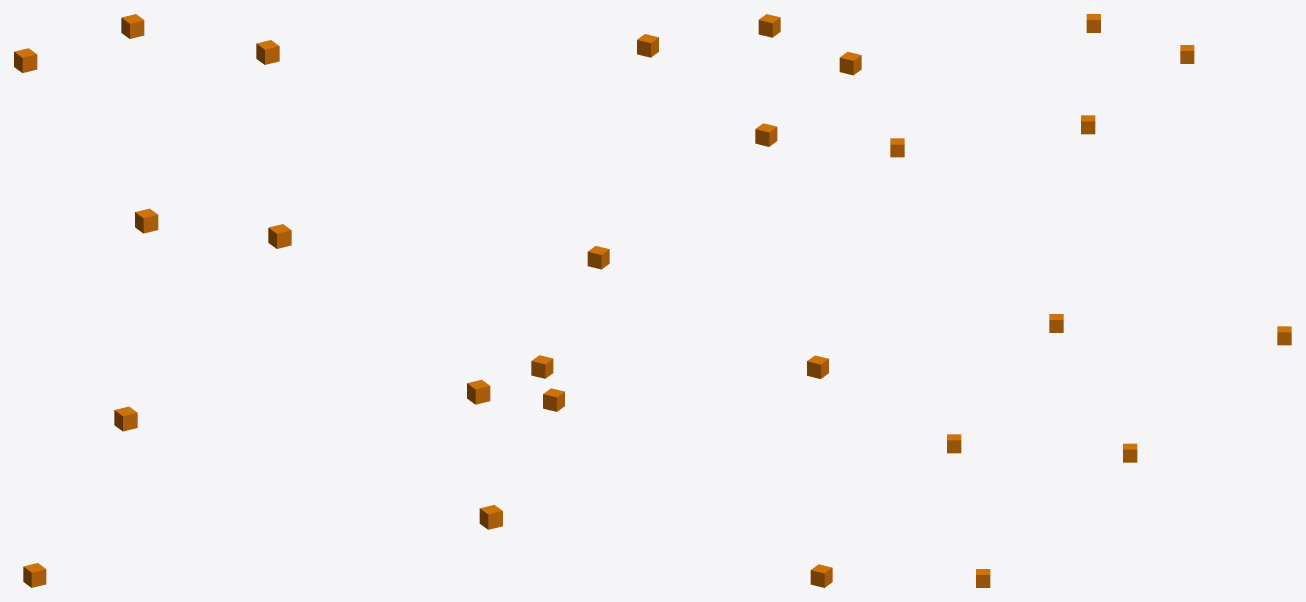
The model's file is game object placement.glb.
3 views of the same model, side by side, from view 1: azimuth 30°, elevation 25°; view 2: azimuth 150°, elevation 25°; view 3: azimuth 270°, elevation 25° (orthographic). The views are drawn at different scales.
Visible parts, largest first — view 1: Cube.002; view 2: Cube.002; view 3: Cube.002.
Part boxes in pixels (<box>): Cube.002: <box>14,14,502,587</box>; Cube.002: <box>531,14,861,587</box>; Cube.002: <box>890,14,1291,587</box>.
Bounding box in the file's own units: 19.32 × 26.98 × 20.7.
